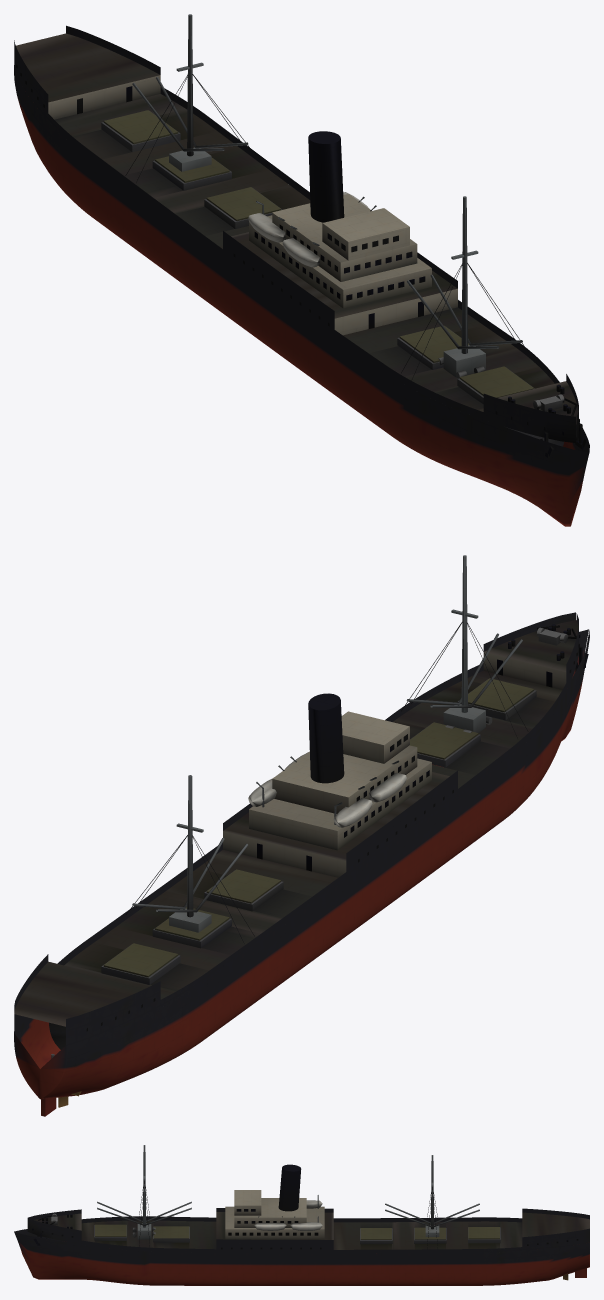
Rendered from model_built.glb.
3 renders of one model, top to bottom at view 1: azimuth 30°, elevation 25°; view 2: azimuth 150°, elevation 25°; view 3: azimuth 270°, elevation 25°, orthographic. The views are drawn at different scales.
Visible parts, largest first — view 1: main; view 2: main; view 3: main.
Part boxes in pixels (x1,y1,x2,y2): main: (14, 14, 589, 526); main: (14, 555, 589, 1116); main: (14, 1145, 589, 1285).
Bounding box in the file's own units: 16.72 × 32.95 × 128.
1 material, 1 textured.
